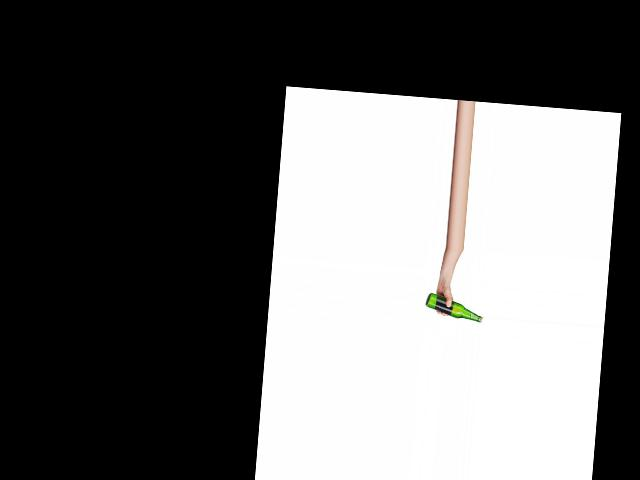beer: (424, 292, 484, 322)
